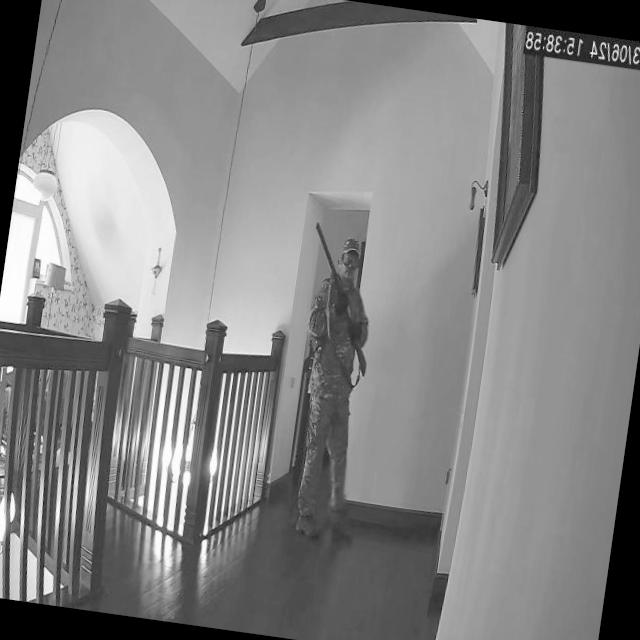gun: (295, 219, 388, 368)
person with a gun: (269, 219, 396, 546)
